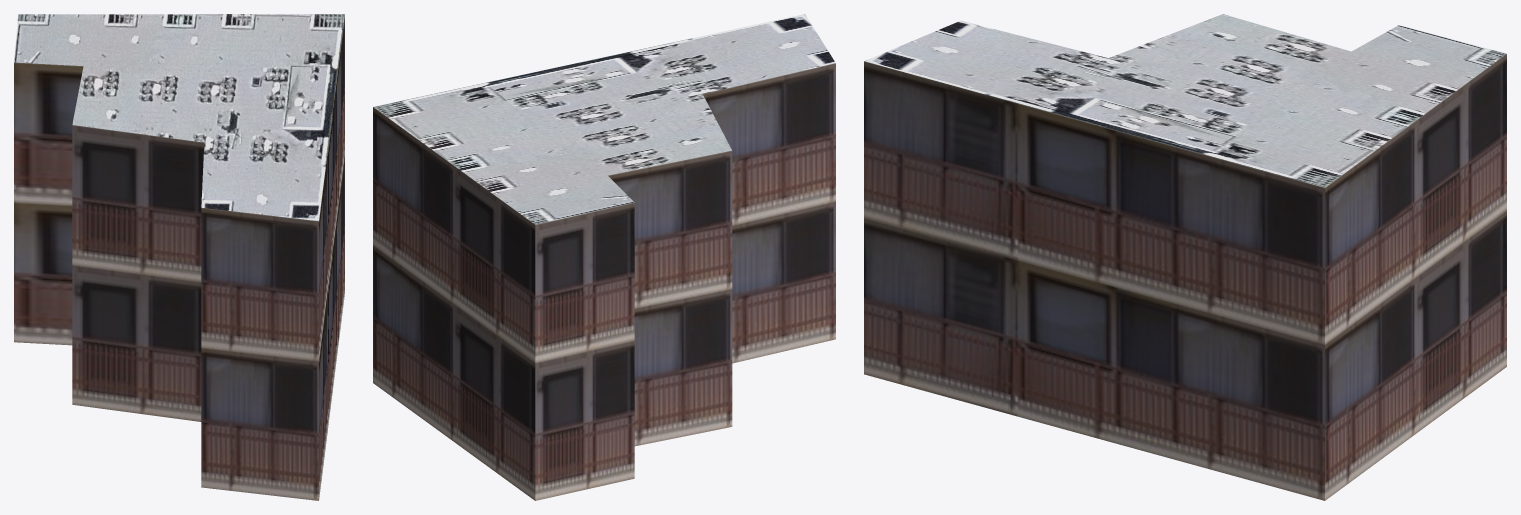
The model's file is ResTex__5084.fbx.
The picture shows the model from 3 angles, left to right: view 1: azimuth 30°, elevation 25°; view 2: azimuth 150°, elevation 25°; view 3: azimuth 270°, elevation 25°; orthographic projection. The views are drawn at different scales.
Parts seen in each view (by area): view 1: CityEngineMaterial_6_m, CityEngineMaterial_4_m; view 2: CityEngineMaterial_6_m, CityEngineMaterial_4_m; view 3: CityEngineMaterial_6_m, CityEngineMaterial_4_m.
Part boxes in pixels (x1=…): CityEngineMaterial_6_m: x1=14, y1=14, x2=344, y2=500; CityEngineMaterial_4_m: x1=14, y1=14, x2=344, y2=220; CityEngineMaterial_6_m: x1=373, y1=63, x2=835, y2=500; CityEngineMaterial_4_m: x1=373, y1=14, x2=835, y2=224; CityEngineMaterial_6_m: x1=864, y1=54, x2=1506, y2=500; CityEngineMaterial_4_m: x1=864, y1=14, x2=1506, y2=187.
Bounding box in the file's own units: 7.14 × 6 × 11.16.
Materials: 2 (2 with a texture image).
